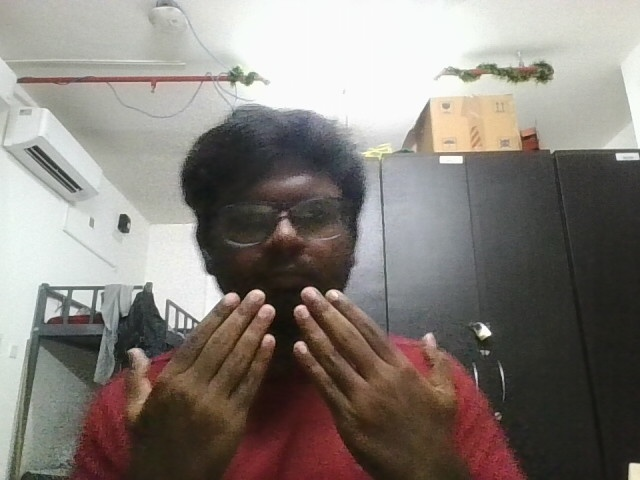Thanks: (104, 275, 482, 480)
